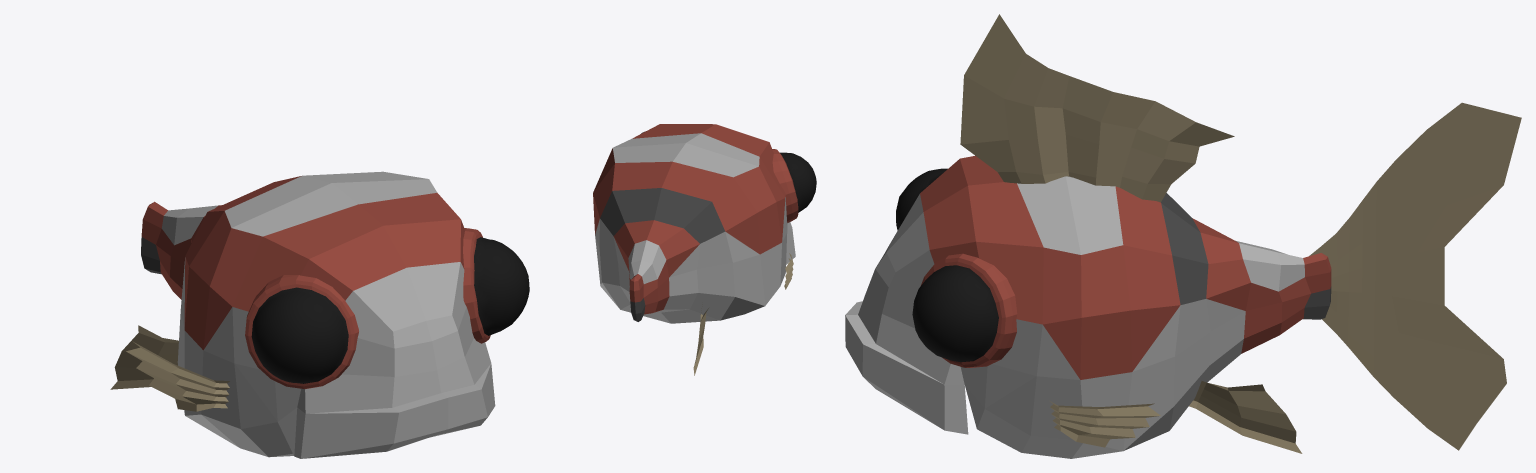
Rendered from koi.glb.
3 renders of one model, left to right at view 1: azimuth 30°, elevation 25°; view 2: azimuth 150°, elevation 25°; view 3: azimuth 270°, elevation 25°, orthographic. The views are drawn at different scales.
Visible parts, largest first — view 1: Koi_Icosphere.008; view 2: Koi_Icosphere.008; view 3: Koi_Icosphere.008.
Part boxes in pixels (x1=…): Koi_Icosphere.008: x1=110, y1=171, x2=529, y2=458; Koi_Icosphere.008: x1=593, y1=124, x2=816, y2=375; Koi_Icosphere.008: x1=845, y1=14, x2=1521, y2=458.
Size of the model in its own units: 3.15 by 4.47 by 5.6.
